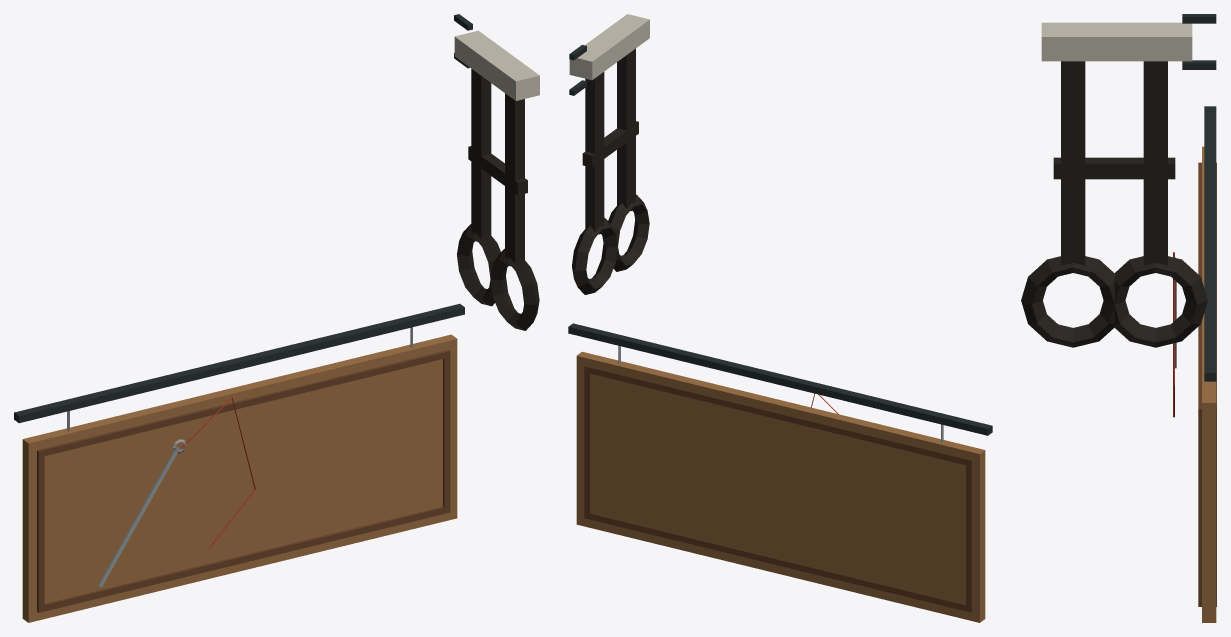
The model's file is bang_tiem_may_be_tu_32.glb.
3 renders of one model, left to right at view 1: azimuth 30°, elevation 25°; view 2: azimuth 150°, elevation 25°; view 3: azimuth 270°, elevation 25°, orthographic. The views are drawn at different scales.
Parts seen in each view (by area): view 1: bang_tiem_may_be_tu_32; view 2: bang_tiem_may_be_tu_32; view 3: bang_tiem_may_be_tu_32.
Part boxes in pixels (x1,y1,x2,y2): bang_tiem_may_be_tu_32: [14, 14, 539, 622]; bang_tiem_may_be_tu_32: [568, 14, 992, 622]; bang_tiem_may_be_tu_32: [1021, 14, 1216, 622].
Size of the model in its own units: 2.65 by 2.78 by 0.807.
